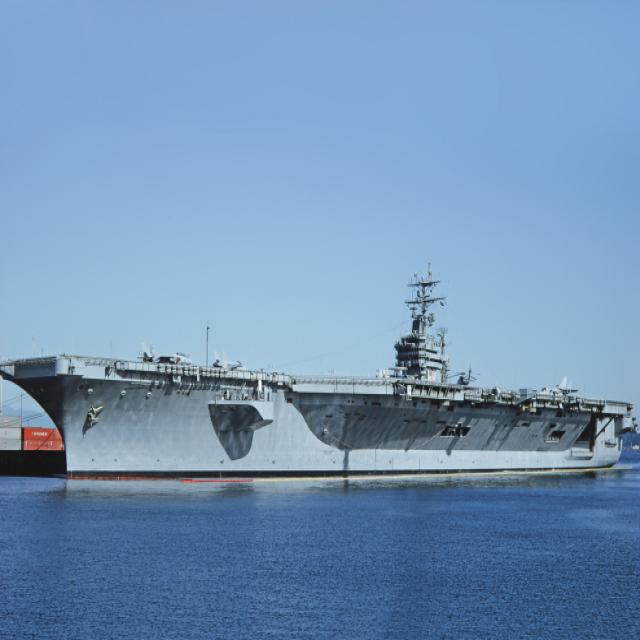Portanaves: (1, 260, 639, 485)
